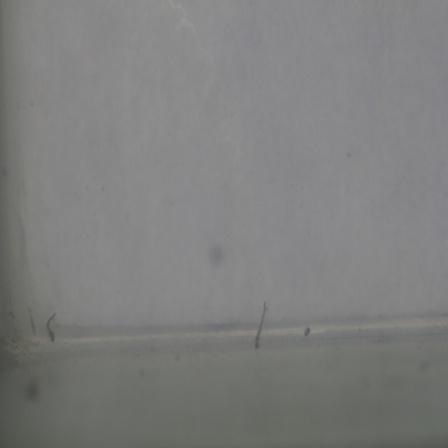Jentik-Nyamuk: (249, 300, 271, 351), (40, 309, 67, 345)
